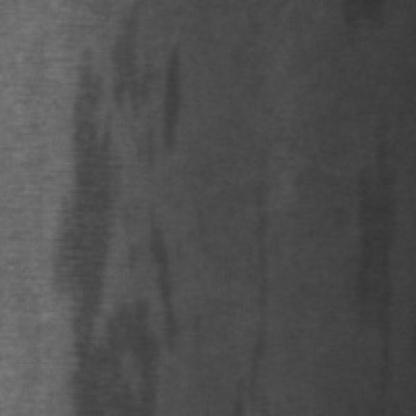inclusion: (46, 19, 179, 412), (339, 137, 401, 393), (224, 202, 272, 410), (154, 31, 191, 154)
